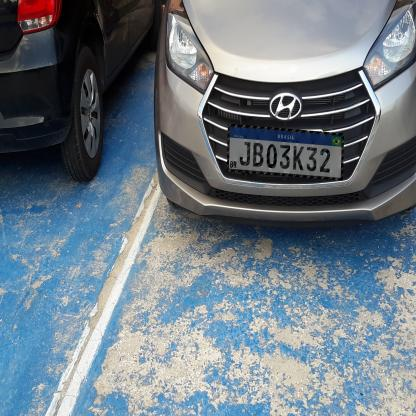PlacaM: (227, 124, 344, 181)
